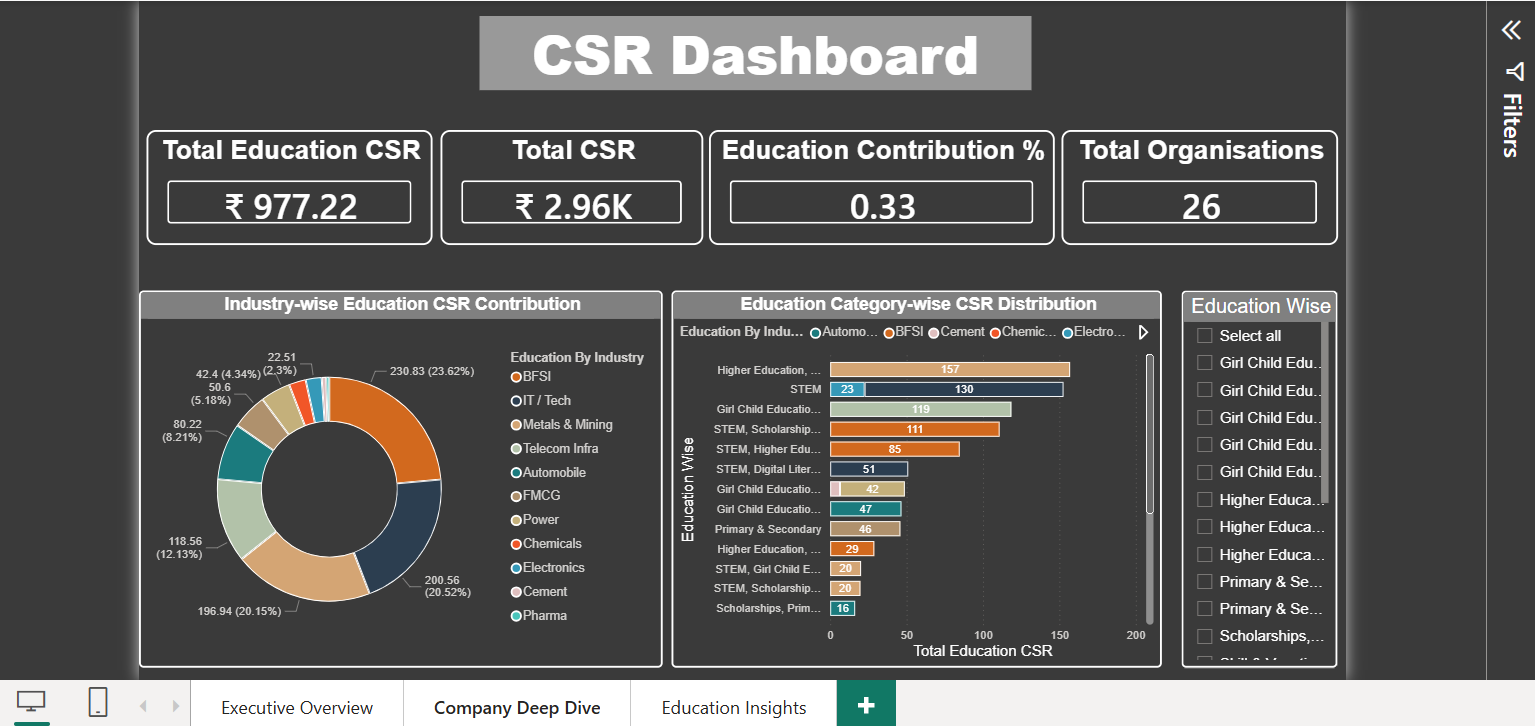

The page's visual inventory and layout, read from the dashboard file:
{"tool":"powerbi","page":{"name":"Company Deep Dive","canvas":[1280,720],"ordinal":1},"visuals":[{"type":"donutChart","title":"Industry-wise Education CSR Contribution","fields":{"Category":["Raw Data.Education By Industry"],"Y":["Raw Data.Total Education CSR"]},"box":[0,306.7,555,400],"z":0},{"type":"barChart","title":"Education Category-wise CSR Distribution","fields":{"Category":["Raw Data.Education Wise"],"Y":["Raw Data.Total Education CSR"],"Series":["Raw Data.Education By Industry"]},"box":[565,306.7,520,400],"z":1000},{"type":"cardVisual","title":"Total Education CSR","fields":{"Data":["Raw Data.Total Education CSR"]},"box":[8.3,136.7,303.3,121.7],"z":2000},{"type":"cardVisual","title":"Total CSR","fields":{"Data":["Raw Data.Total CSR"]},"box":[320,136.7,278.3,121.7],"z":3000},{"type":"cardVisual","title":"Education Contribution %","fields":{"Data":["Raw Data.Education Contribution %"]},"box":[605,136.7,366.7,121.7],"z":4000},{"type":"cardVisual","title":"Total Organisations","fields":{"Data":["Raw Data.Total Organisations"]},"box":[978.3,136.7,293.3,121.7],"z":5000},{"type":"slicer","title":"Education Wise","fields":{"Values":["Raw Data.Education Wise"]},"box":[1105,306.7,165,400],"z":6000},{"type":"textbox","title":"CSR Dashboard","box":[361.7,16.7,585,78.3],"z":7000}]}

Visuals, with their boxes in screenshot pixels (x1, y1, x2, y2):
"Industry-wise Education CSR Contribution" donutChart: <bbox>120, 291, 653, 675</bbox>
"Education Category-wise CSR Distribution" barChart: <bbox>663, 291, 1163, 675</bbox>
"Total Education CSR" cardVisual: <bbox>128, 127, 419, 244</bbox>
"Total CSR" cardVisual: <bbox>427, 127, 695, 244</bbox>
"Education Contribution %" cardVisual: <bbox>701, 127, 1054, 244</bbox>
"Total Organisations" cardVisual: <bbox>1060, 127, 1342, 244</bbox>
"Education Wise" slicer: <bbox>1182, 291, 1341, 675</bbox>
"CSR Dashboard" textbox: <bbox>468, 12, 1030, 87</bbox>
